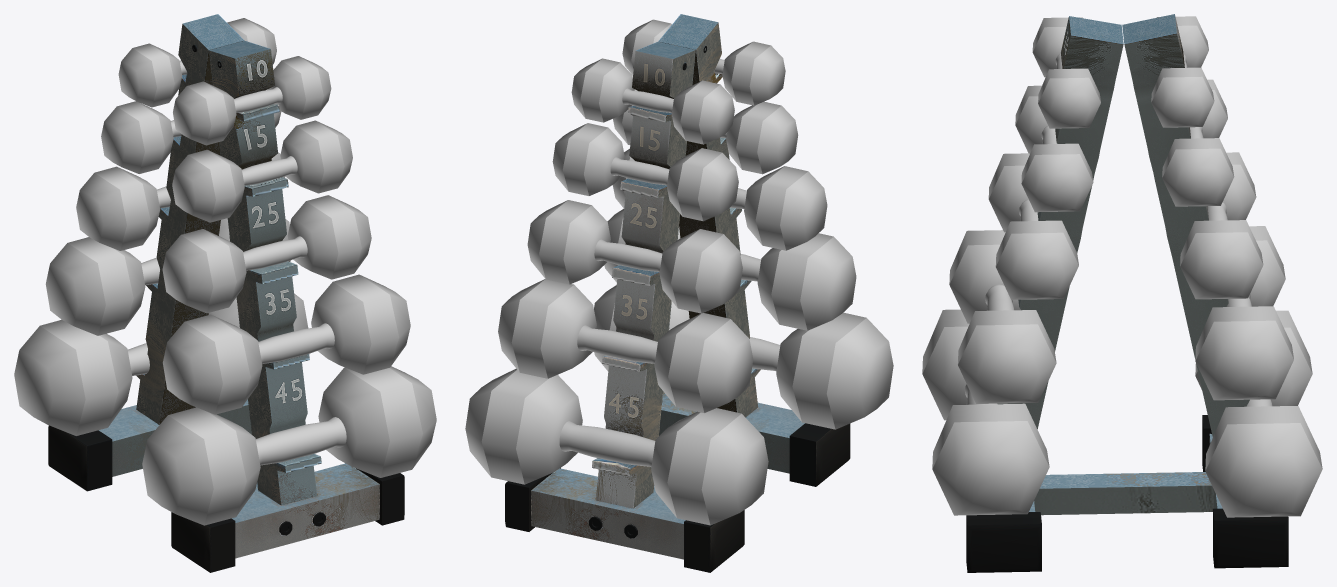
The model's file is Briseno_Yvonne_dumbbell.fbx.
3 views of the same model, side by side, from view 1: azimuth 30°, elevation 25°; view 2: azimuth 150°, elevation 25°; view 3: azimuth 270°, elevation 25° (orthographic). The views are drawn at different scales.
Visible parts, largest first — view 1: polySurface44; view 2: polySurface44; view 3: polySurface44.
Part boxes in pixels (left/top/right/bottom): polySurface44: left=14, top=14, right=436, bottom=572; polySurface44: left=465, top=14, right=893, bottom=572; polySurface44: left=922, top=14, right=1322, bottom=572.
Bounding box in the file's own units: 237 × 387 × 284.
